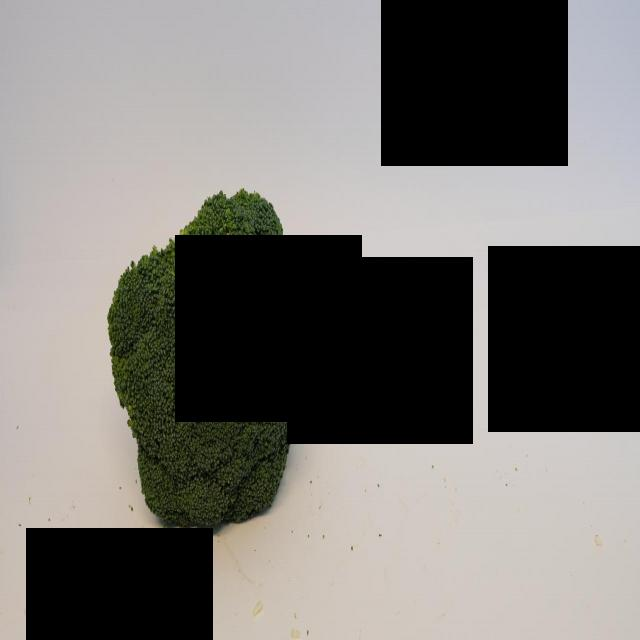broccoli: (107, 167, 318, 542)
